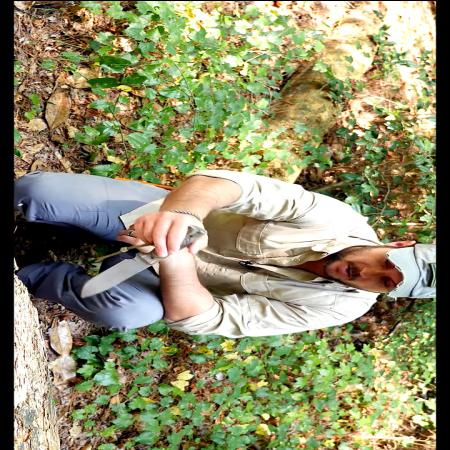long weapon: (74, 214, 198, 302)
